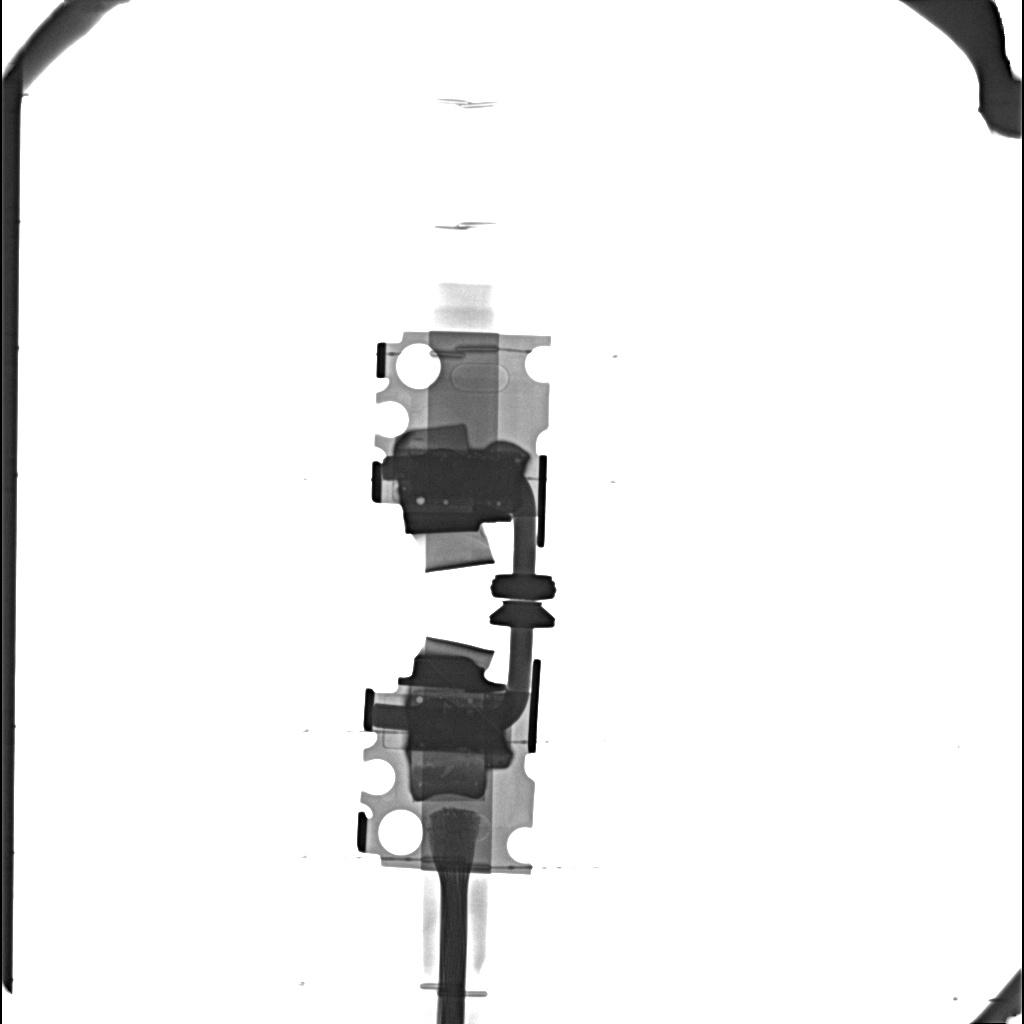defect: (400, 453, 521, 495), (409, 752, 487, 802), (407, 709, 500, 749), (393, 423, 470, 455), (416, 497, 426, 505), (416, 696, 423, 704)
